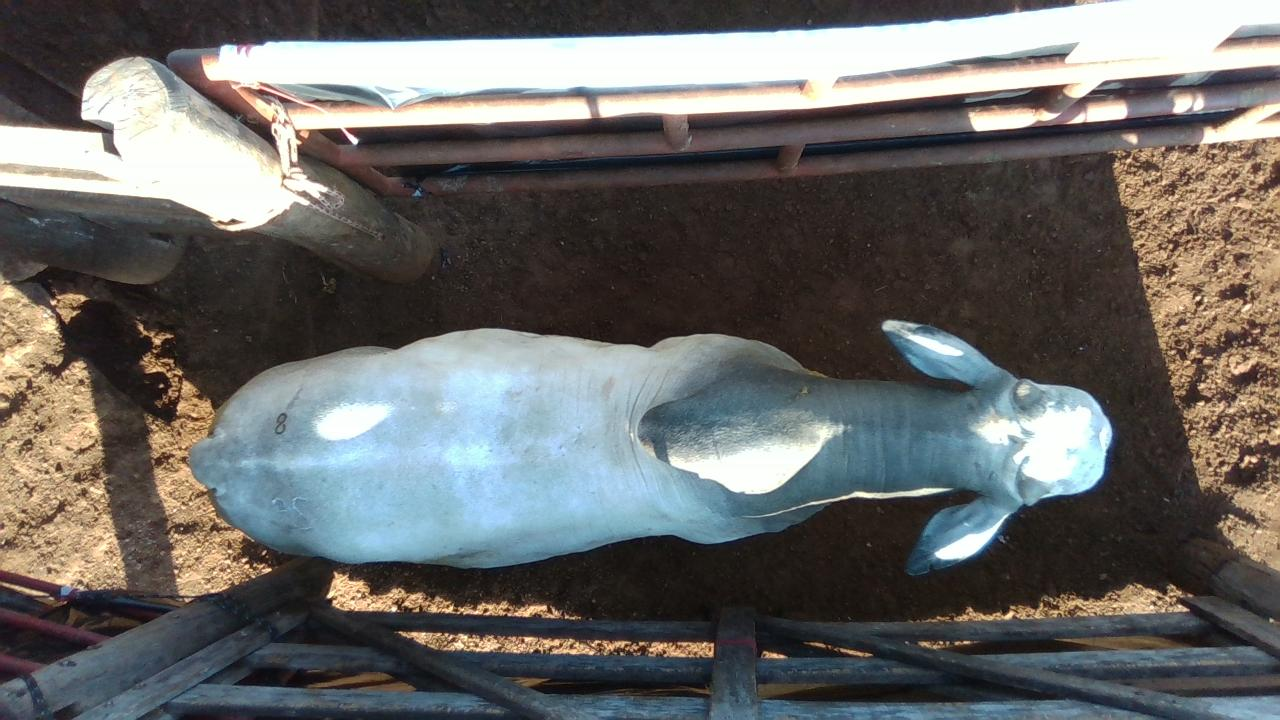cattle: (187, 317, 1114, 576)
